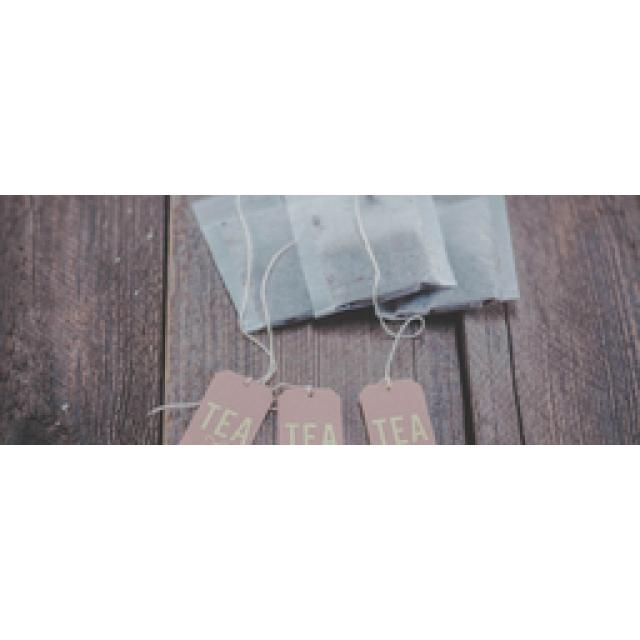tea-bags: (191, 195, 521, 335)
